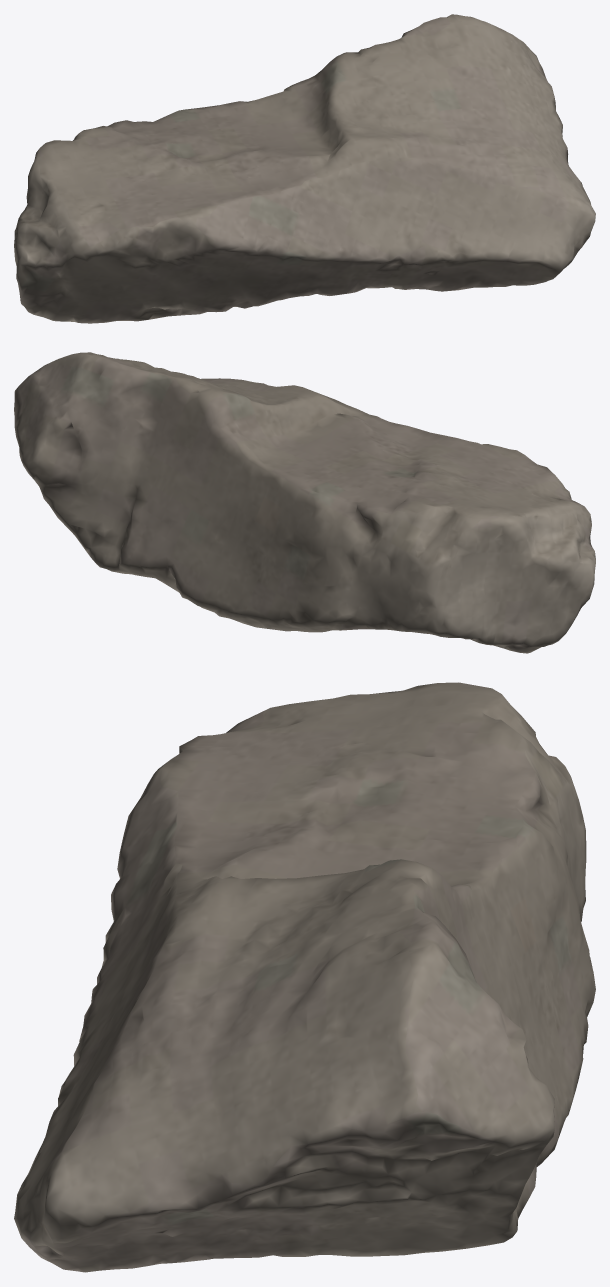
The model's file is moon_rock_01.glb.
3 renders of one model, top to bottom at view 1: azimuth 30°, elevation 25°; view 2: azimuth 150°, elevation 25°; view 3: azimuth 270°, elevation 25°, orthographic. The views are drawn at different scales.
Visible parts, largest first — view 1: moon_rock_01_LOD0; view 2: moon_rock_01_LOD0; view 3: moon_rock_01_LOD0.
Boxes of the visible parts, left/top/right/bottom form: moon_rock_01_LOD0: left=14, top=14, right=595, bottom=323; moon_rock_01_LOD0: left=14, top=352, right=595, bottom=653; moon_rock_01_LOD0: left=14, top=682, right=595, bottom=1272.
Size of what is drawn, in the model's own units: 0.2121 by 0.0751 by 0.1116.
Materials: 1 (1 with a texture image).
